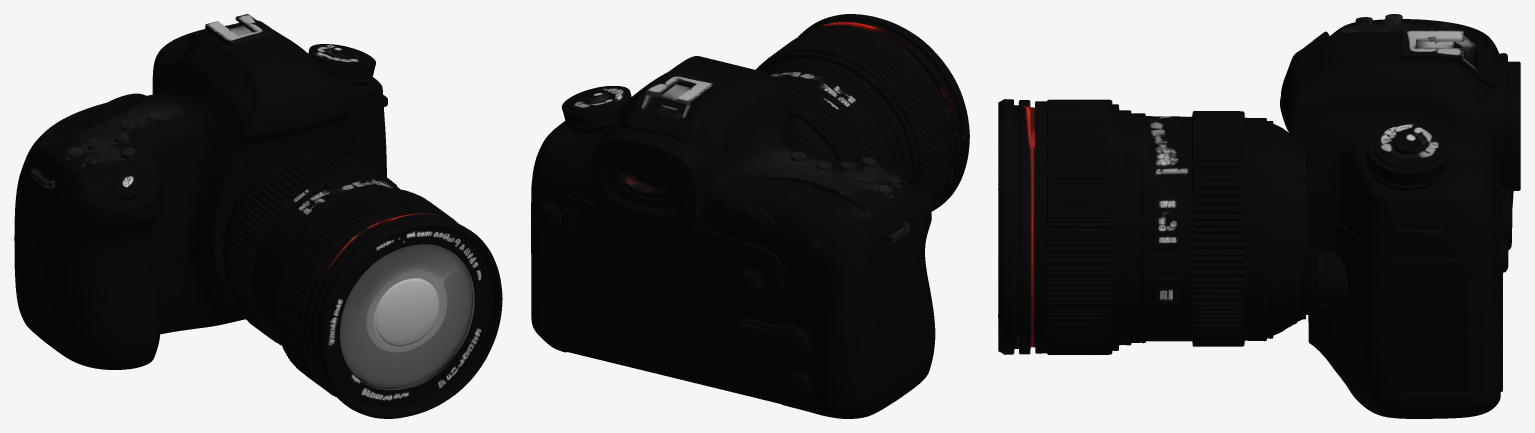
The model's file is uploads_files_6461868_15_Camera.glb.
3 views of the same model, side by side, from view 1: azimuth 30°, elevation 25°; view 2: azimuth 150°, elevation 25°; view 3: azimuth 270°, elevation 25° (orthographic). The views are drawn at different scales.
Parts seen in each view (by area): view 1: texture_pbr_v128; view 2: texture_pbr_v128; view 3: texture_pbr_v128.
Part boxes in pixels (x1,y1,x2,y2): texture_pbr_v128: [14, 14, 502, 418]; texture_pbr_v128: [531, 14, 969, 418]; texture_pbr_v128: [998, 14, 1520, 418].
Bounding box in the file's own units: 0.7971 × 0.5753 × 0.88.
Materials: 1 (1 with a texture image).
